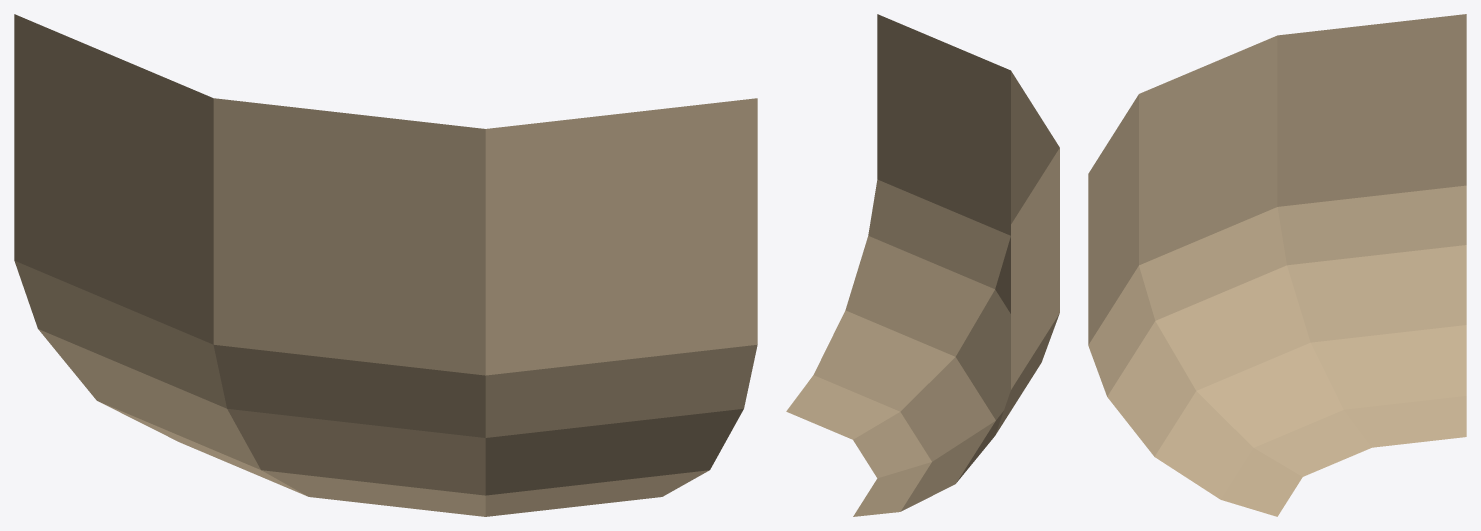
Rendered from Escarpment_Terrain_Corner_Inner_1x1_Base.obj.
3 views of the same model, side by side, from view 1: azimuth 30°, elevation 25°; view 2: azimuth 150°, elevation 25°; view 3: azimuth 270°, elevation 25° (orthographic). The views are drawn at different scales.
Parts seen in each view (by area): view 1: object1; view 2: object1; view 3: object1.
Part boxes in pixels (x1,y1,x2,y2): object1: [14, 14, 757, 516]; object1: [786, 14, 1059, 516]; object1: [1088, 14, 1466, 516].
Bounding box in the file's own units: 1 × 1 × 1.
